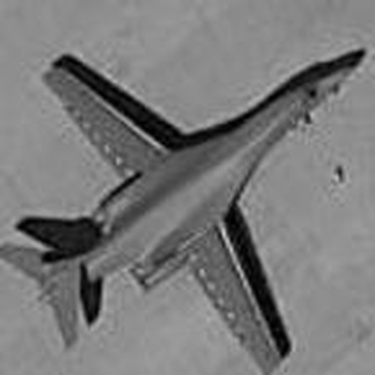airplane: (7, 38, 370, 369)
